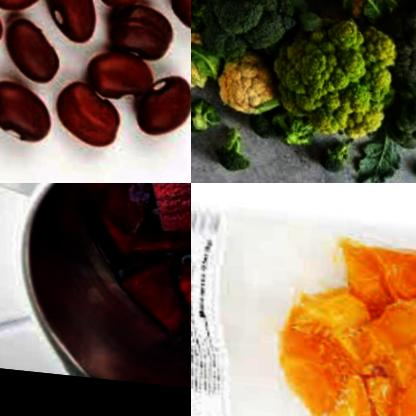beet: (80, 183, 191, 396)
broccoli: (243, 109, 349, 171), (191, 0, 301, 57), (381, 0, 416, 151), (191, 93, 251, 170)
cayliflower: (276, 10, 399, 149), (222, 48, 286, 119), (191, 23, 217, 95)
fasol: (0, 0, 191, 171)
pumpkin: (267, 227, 416, 416)
